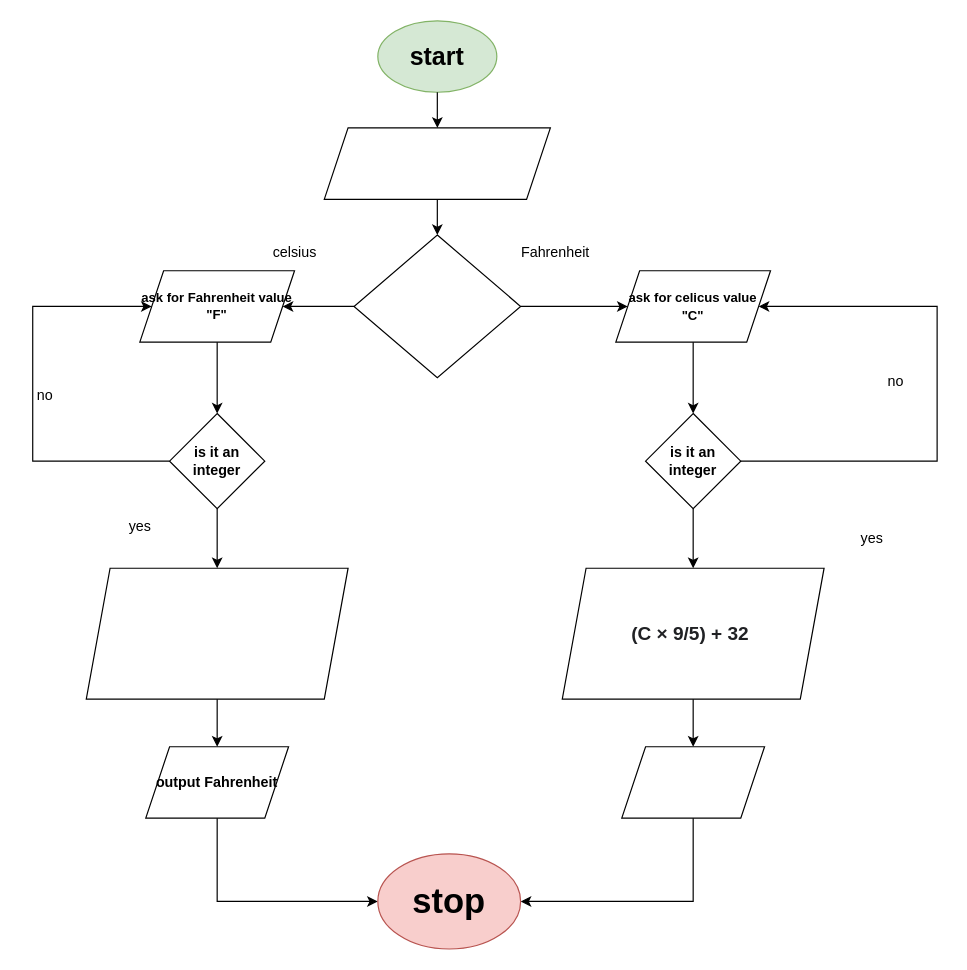
Some shapes in this 967 by 970 pixel diagram are drawn without their labels. Each missing label, with the centre of its shape:
"( F − 32) × 5/9" goes at point 216,633.
"ask user which unit they want to convert to" goes at point 436,163.
"output Celicus" goes at point 693,782.
"what unit does the user want to convert to?" goes at point 437,306.
